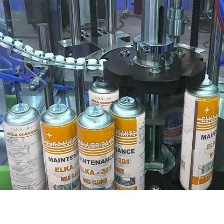aerosol_cans: (36, 98, 87, 212), (1, 98, 52, 212), (176, 70, 221, 196), (106, 91, 147, 211), (74, 101, 116, 215), (85, 71, 120, 170)
